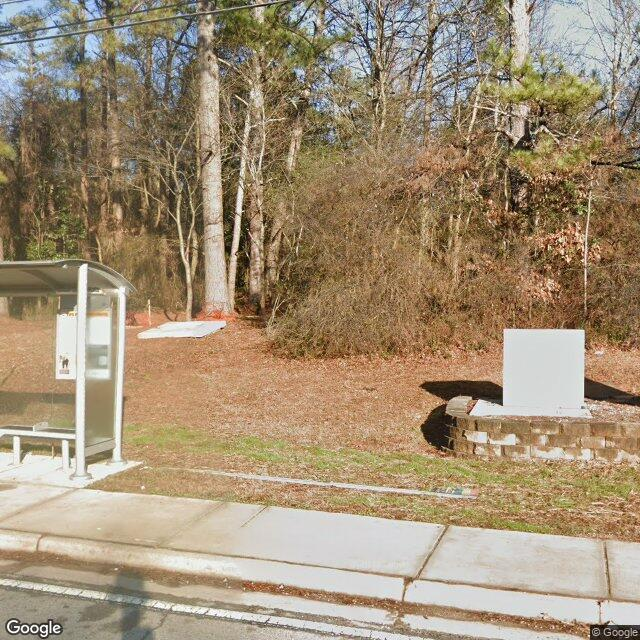seating: (0, 422, 76, 468)
shelter: (0, 258, 135, 486)
